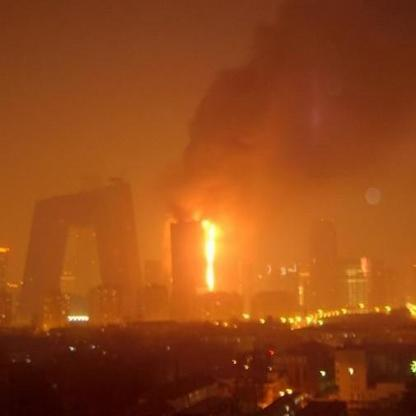fire: (189, 206, 224, 296)
other: (226, 350, 373, 413), (225, 298, 413, 330), (53, 307, 97, 326)
smoke: (190, 9, 412, 204)
